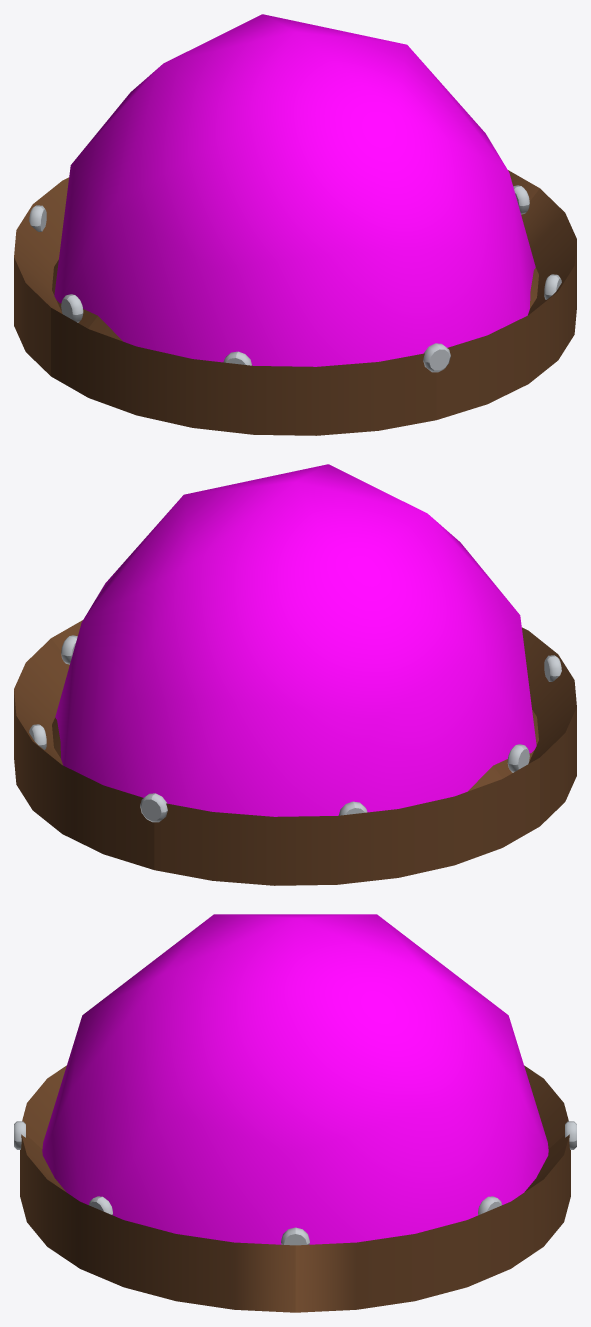
File: objet_armure1_casque.glb
The picture shows the model from 3 angles, top to bottom: view 1: azimuth 30°, elevation 25°; view 2: azimuth 150°, elevation 25°; view 3: azimuth 270°, elevation 25°; orthographic projection. The views are drawn at different scales.
Visible parts, largest first — view 1: casque_teinte.004, casque_sac_cuir.002, casque_rivet.004; view 2: casque_teinte.004, casque_sac_cuir.002, casque_rivet.004; view 3: casque_teinte.004, casque_sac_cuir.002, casque_rivet.004.
Part boxes in pixels (x1,y1,x2,y2): casque_teinte.004: (54, 14, 535, 366); casque_sac_cuir.002: (14, 170, 576, 435); casque_rivet.004: (29, 185, 561, 372); casque_teinte.004: (55, 464, 536, 816); casque_sac_cuir.002: (14, 620, 576, 885); casque_rivet.004: (29, 635, 561, 822); casque_teinte.004: (42, 914, 548, 1244); casque_sac_cuir.002: (20, 1065, 570, 1312); casque_rivet.004: (14, 1121, 576, 1245).
Bounding box in the file's own units: 0.23 × 0.128 × 0.235.
